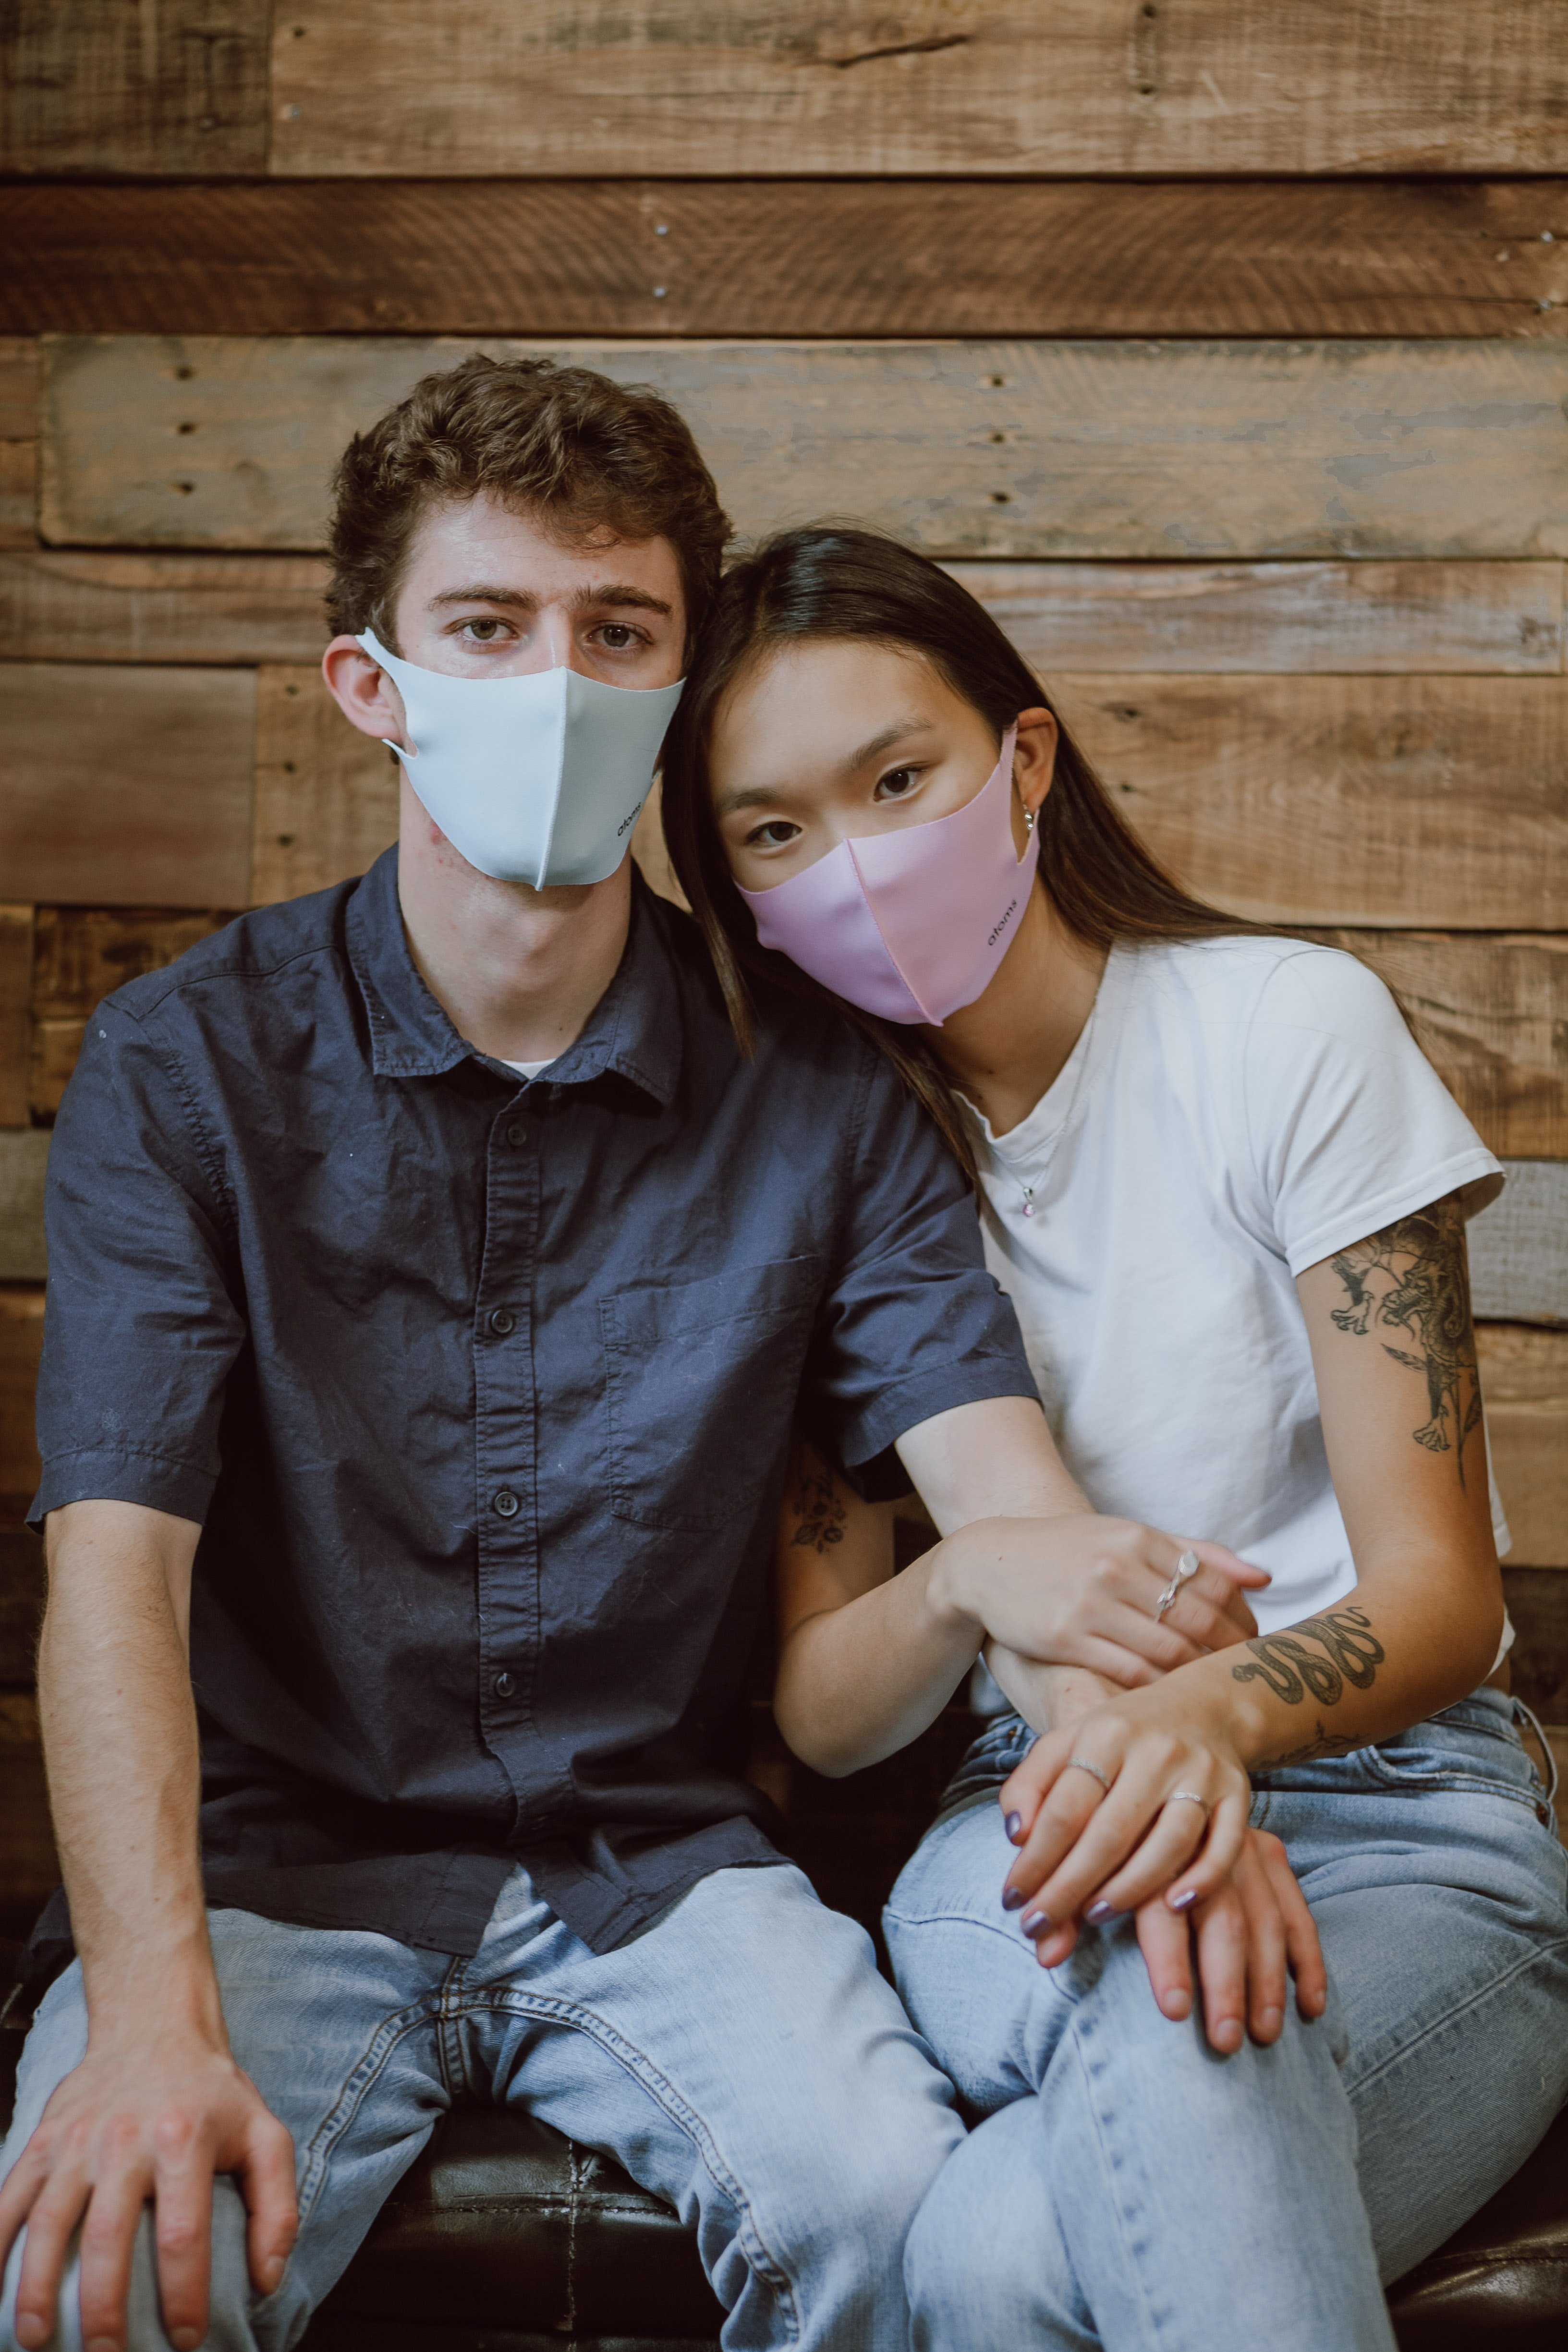mask: (743, 781, 1069, 1054), (367, 638, 693, 910)
person: (72, 339, 992, 2324), (667, 542, 1531, 2352)
